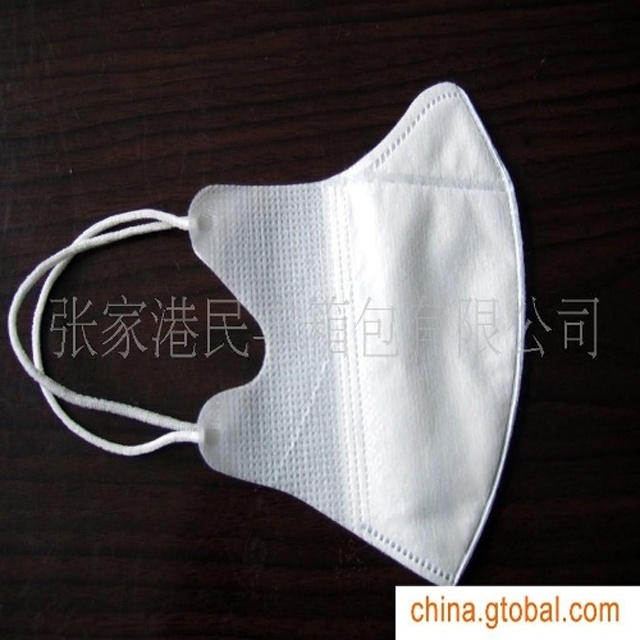mask: (1, 80, 532, 586)
